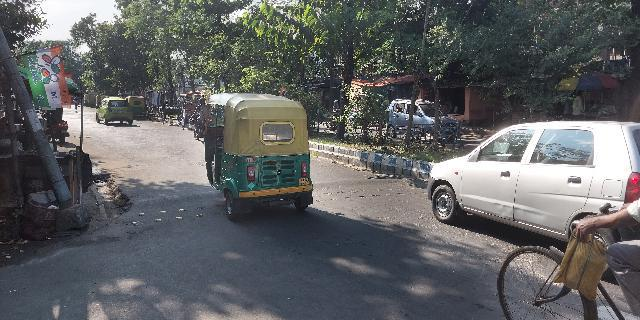Autorickshaw: (192, 89, 318, 223)
Car: (421, 114, 640, 252), (93, 96, 136, 127)
Cycle: (492, 181, 640, 320)
